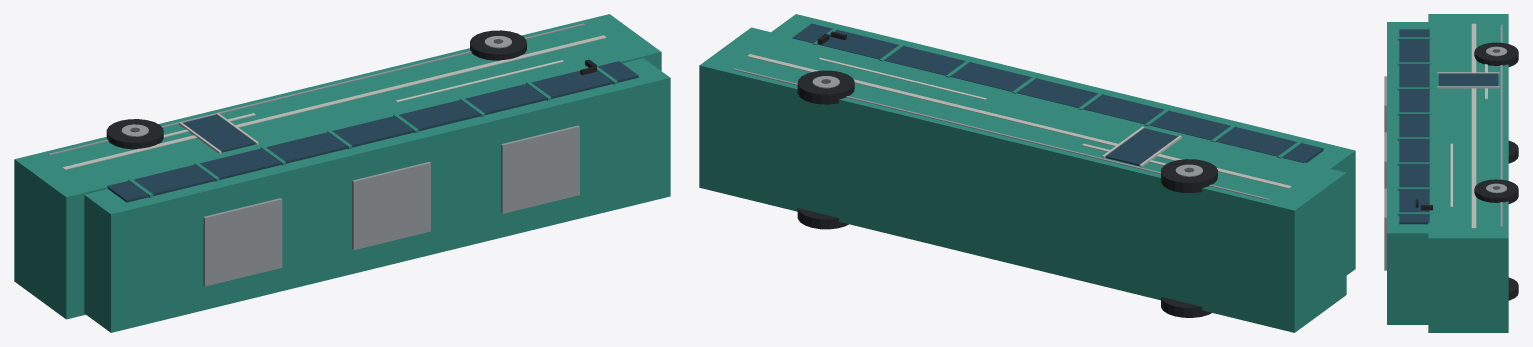
The model's file is RM_Bus_25.glb.
The picture shows the model from 3 angles, left to right: view 1: azimuth 30°, elevation 25°; view 2: azimuth 150°, elevation 25°; view 3: azimuth 270°, elevation 25°; orthographic projection. The views are drawn at different scales.
Parts seen in each view (by area): view 1: part_001, part_000, part_002, part_037, part_039, part_038, part_013, part_040, part_024, part_030, part_014; view 2: part_000, part_002, part_001, part_013, part_040, part_030, part_024, part_014, part_027, part_021; view 3: part_000, part_001, part_002, part_013, part_040, part_030, part_024, part_014, part_039, part_027, part_021, part_043 (+6 smaller).
Part boxes in pixels (x1,y1,x2,y2): part_001: (84, 58, 670, 332); part_000: (14, 14, 661, 319); part_002: (107, 61, 638, 202); part_037: (203, 198, 282, 286); part_039: (501, 125, 579, 213); part_038: (352, 161, 430, 249); part_013: (62, 35, 606, 169); part_040: (183, 114, 255, 152); part_024: (106, 119, 163, 149); part_030: (470, 30, 526, 60); part_014: (48, 23, 584, 155); part_000: (699, 27, 1346, 332); part_002: (792, 23, 1323, 162); part_001: (771, 14, 1355, 275); part_013: (747, 54, 1291, 188); part_040: (1105, 128, 1177, 165); part_030: (797, 70, 854, 104); part_024: (1161, 159, 1217, 193); part_014: (733, 68, 1269, 200); part_027: (797, 208, 848, 229); part_021: (1161, 296, 1211, 317); part_000: (1428, 14, 1508, 332); part_001: (1387, 22, 1428, 324); part_002: (1399, 29, 1429, 224); part_013: (1471, 23, 1476, 228); part_040: (1438, 73, 1498, 86); part_030: (1474, 179, 1518, 203); part_024: (1474, 42, 1518, 66); part_014: (1500, 24, 1502, 227); part_039: (1384, 188, 1386, 270); part_027: (1508, 277, 1518, 300); part_021: (1508, 140, 1518, 163); part_043: (1450, 143, 1452, 206).
Size of the model in its own units: 12.48 by 2.77 by 3.16.
